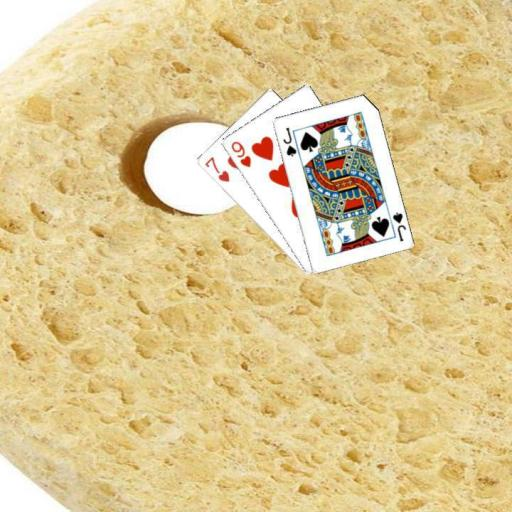card-corner: (201, 154, 231, 184), (228, 138, 252, 168), (279, 124, 298, 158), (389, 209, 407, 243)
